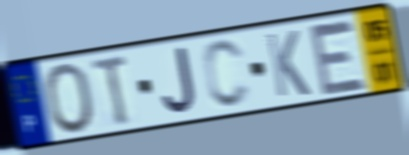C: (200, 37, 253, 111)
E: (306, 18, 370, 98)
J: (160, 44, 198, 117)
K: (263, 28, 313, 100)
O: (42, 61, 97, 136)
T: (89, 52, 133, 129)
